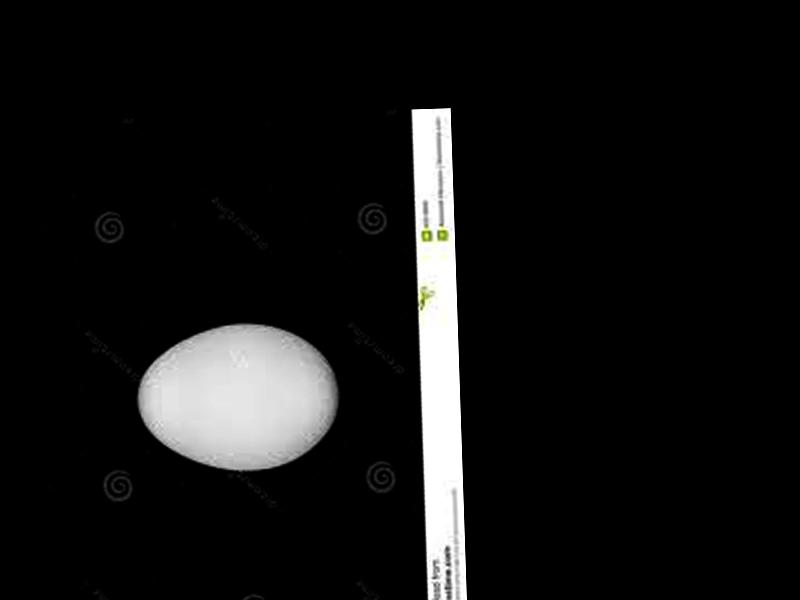Eggs: (135, 316, 340, 473)
